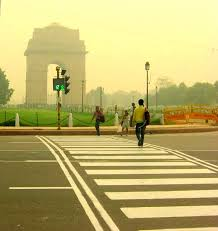signal: (53, 78, 65, 90)
